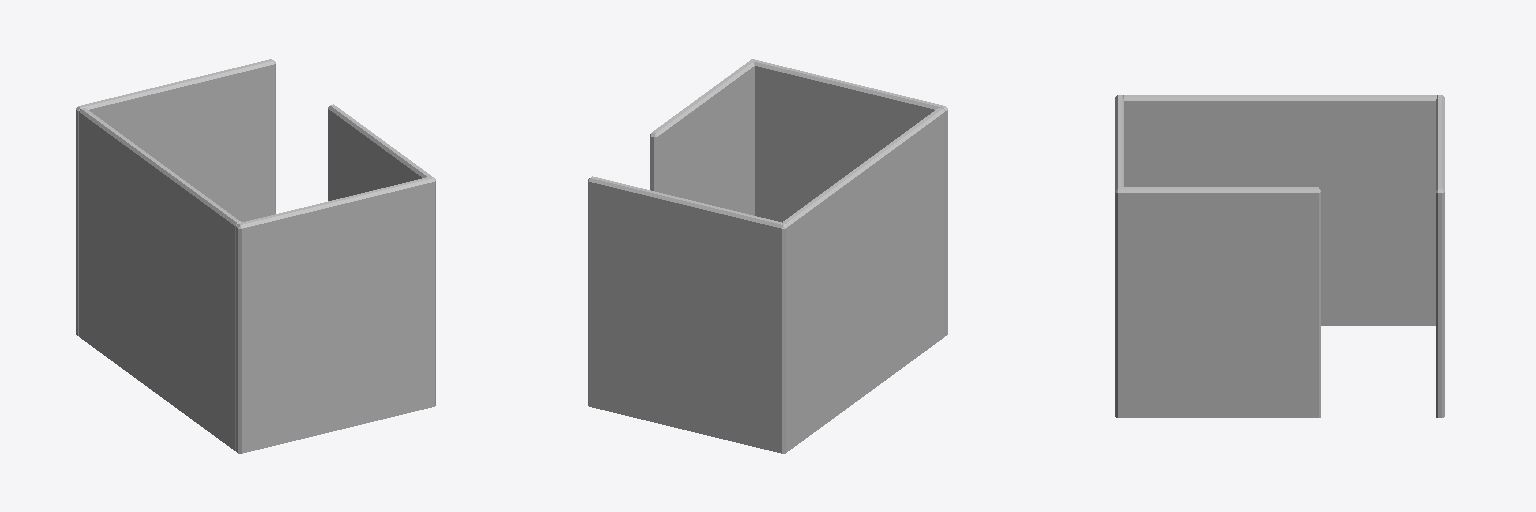
Rendered from CubicleRight.obj.
3 renders of one model, left to right at view 1: azimuth 30°, elevation 25°; view 2: azimuth 150°, elevation 25°; view 3: azimuth 270°, elevation 25°, orthographic.
Parts seen in each view (by area): view 1: Cubicle; view 2: Cubicle; view 3: Cubicle.
Part boxes in pixels (x1,y1,x2,y2): Cubicle: (76, 59, 435, 453); Cubicle: (588, 59, 947, 453); Cubicle: (1115, 95, 1444, 417).
Size of the model in its own units: 6.55 by 7.19 by 9.42.